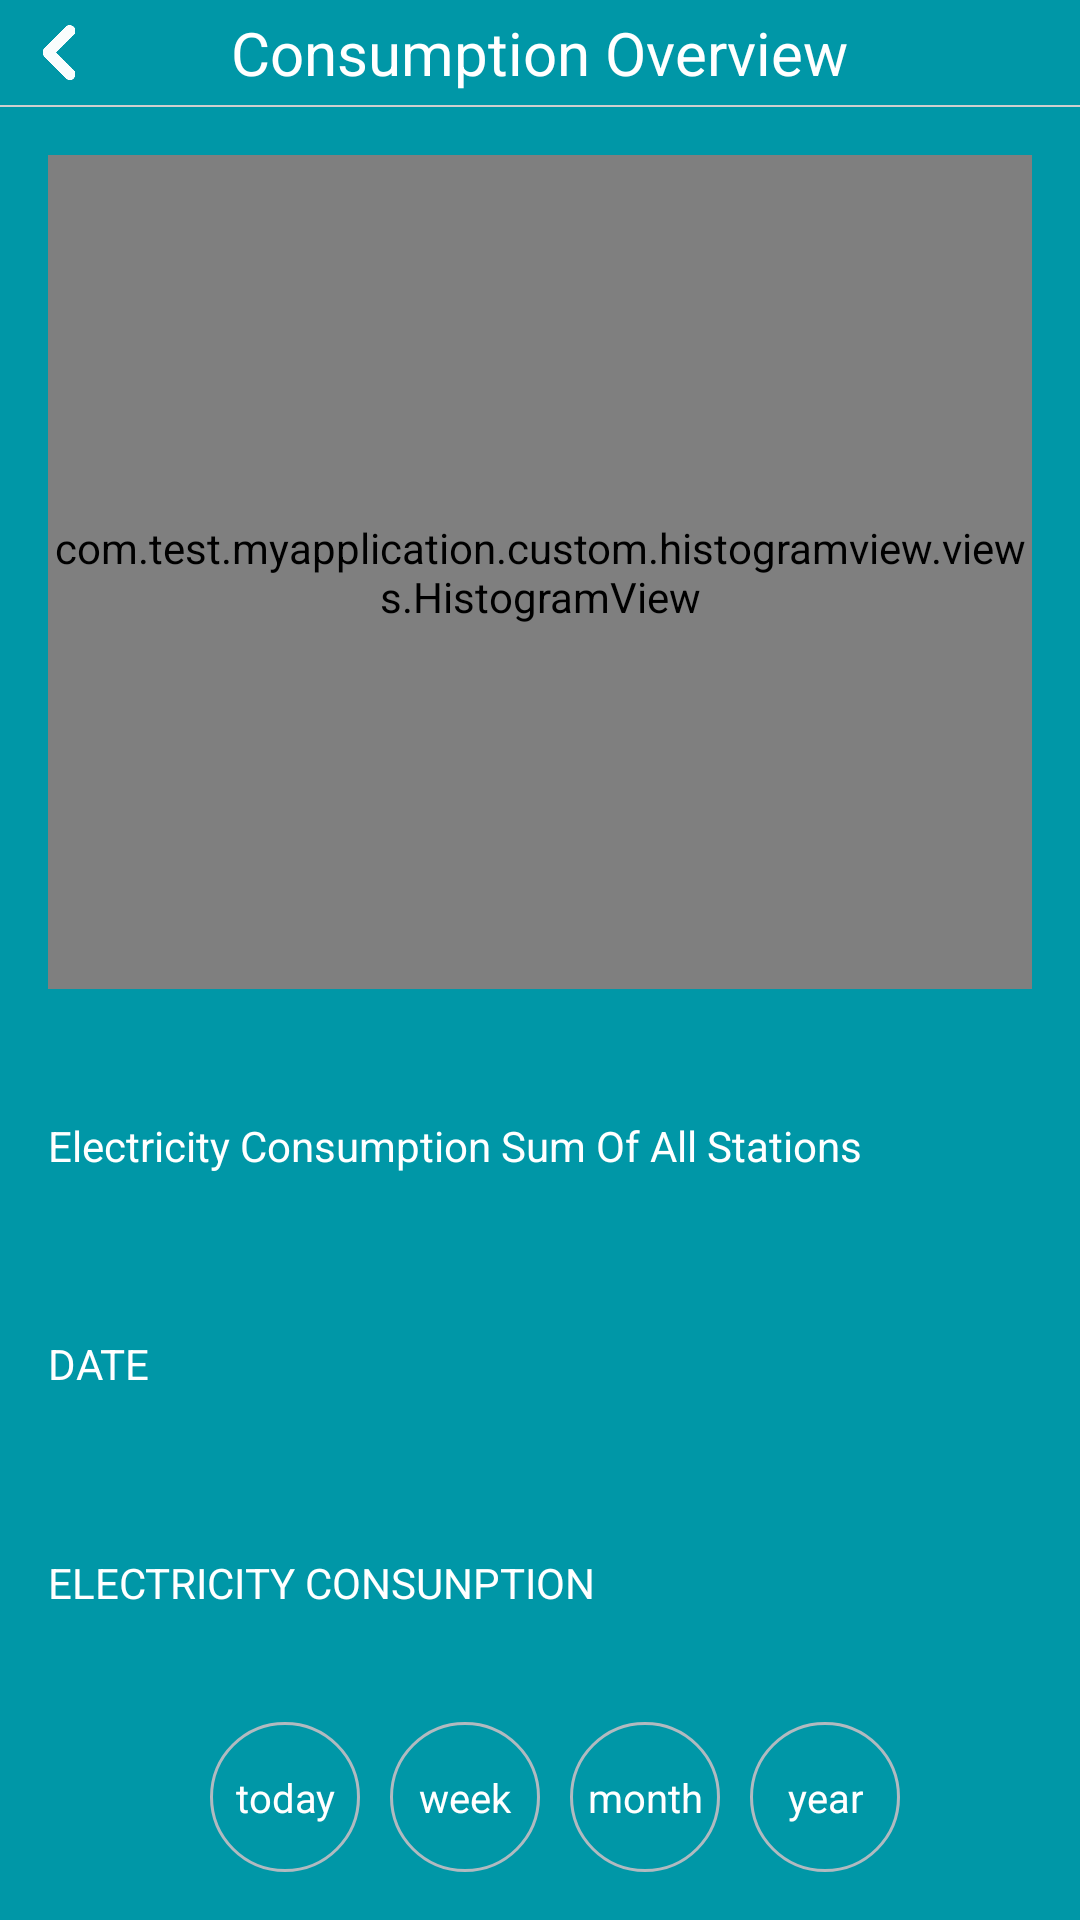

Screen size 1080 × 1920. Icon name, then its center in pixels as (x=x, y=y):
back: (x=59, y=52)
